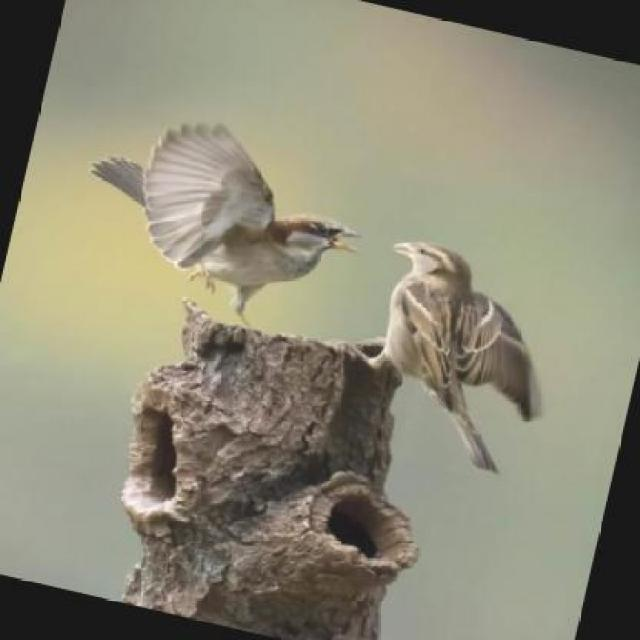Bird: (101, 114, 339, 325), (367, 236, 549, 479)
